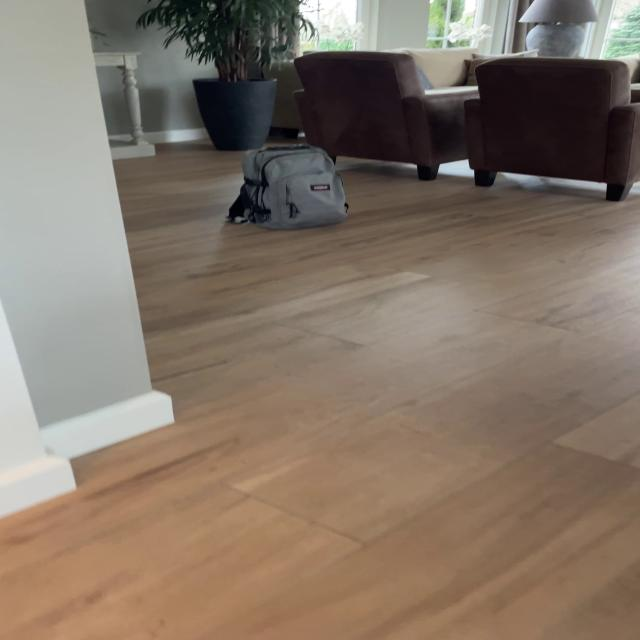backpack: (225, 142, 359, 234)
